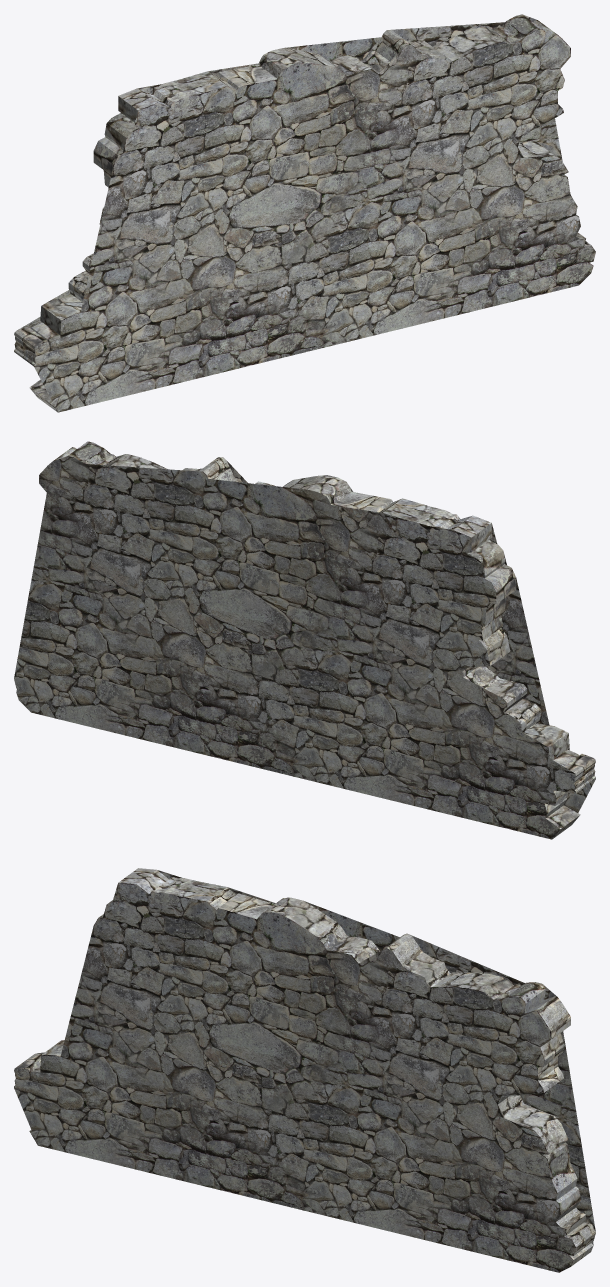
Rendered from zid1.fbx.
3 views of the same model, one above another, from view 1: azimuth 30°, elevation 25°; view 2: azimuth 150°, elevation 25°; view 3: azimuth 330°, elevation 25° (orthographic).
Parts seen in each view (by area): view 1: Mesh1; view 2: Mesh1; view 3: Mesh1.
Boxes of the visible parts, x1,y1,x2,y2 form: Mesh1: [14, 14, 595, 412]; Mesh1: [14, 441, 595, 839]; Mesh1: [14, 868, 595, 1272].
Bounding box in the file's own units: 9.9 × 4.89 × 0.61.
